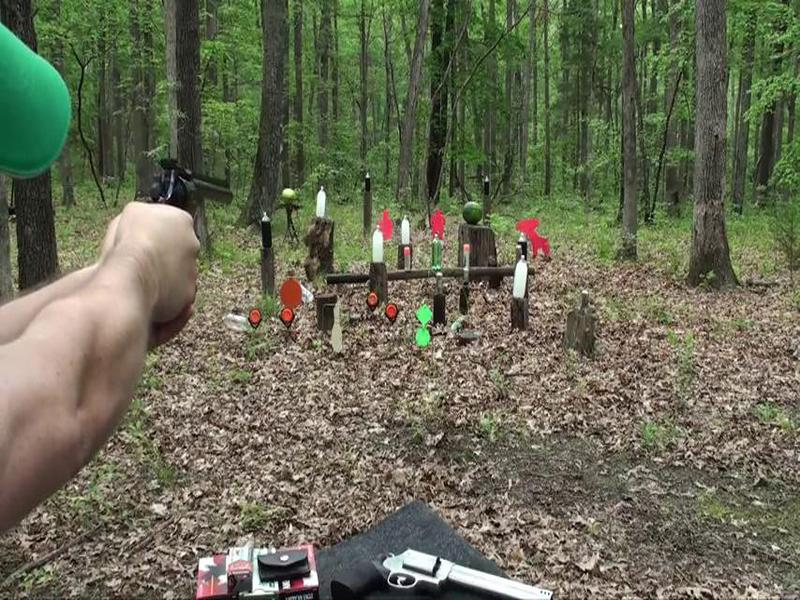Revolver: (132, 153, 251, 251)
